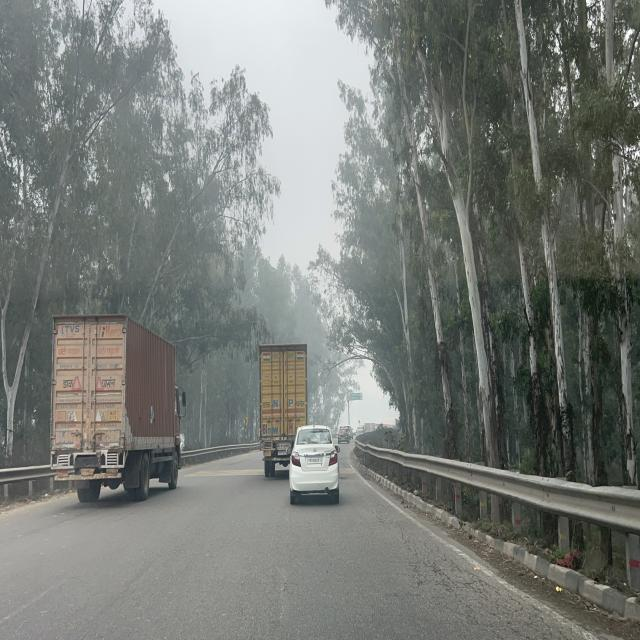GENERAL: (347, 392, 362, 400)
TURN_RIGHT: (244, 417, 247, 425)
